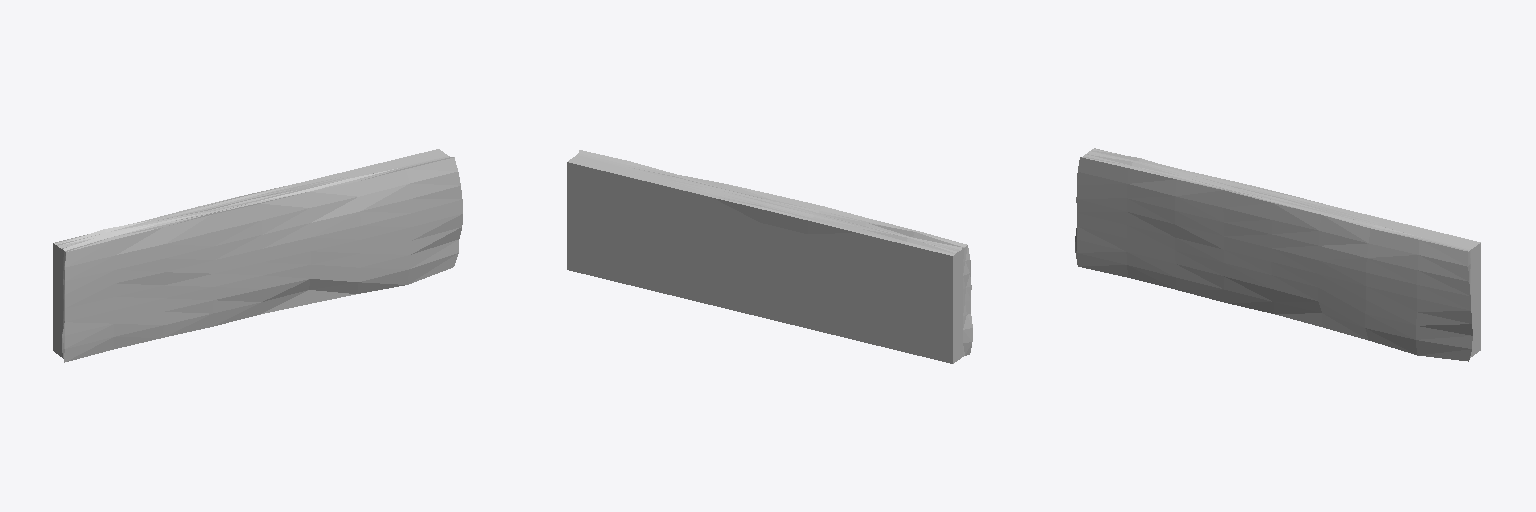
File: rock2.obj
The picture shows the model from 3 angles: view 1: azimuth 30°, elevation 25°; view 2: azimuth 150°, elevation 25°; view 3: azimuth 330°, elevation 25°; orthographic projection.
Visible parts, largest first — view 1: 立方体.106; view 2: 立方体.106; view 3: 立方体.106.
Boxes of the visible parts, x1=… form: 立方体.106: x1=53, y1=149, x2=462, y2=362; 立方体.106: x1=567, y1=150, x2=972, y2=363; 立方体.106: x1=1075, y1=148, x2=1480, y2=361.
Bounding box in the file's own units: 625 × 177 × 51.23.